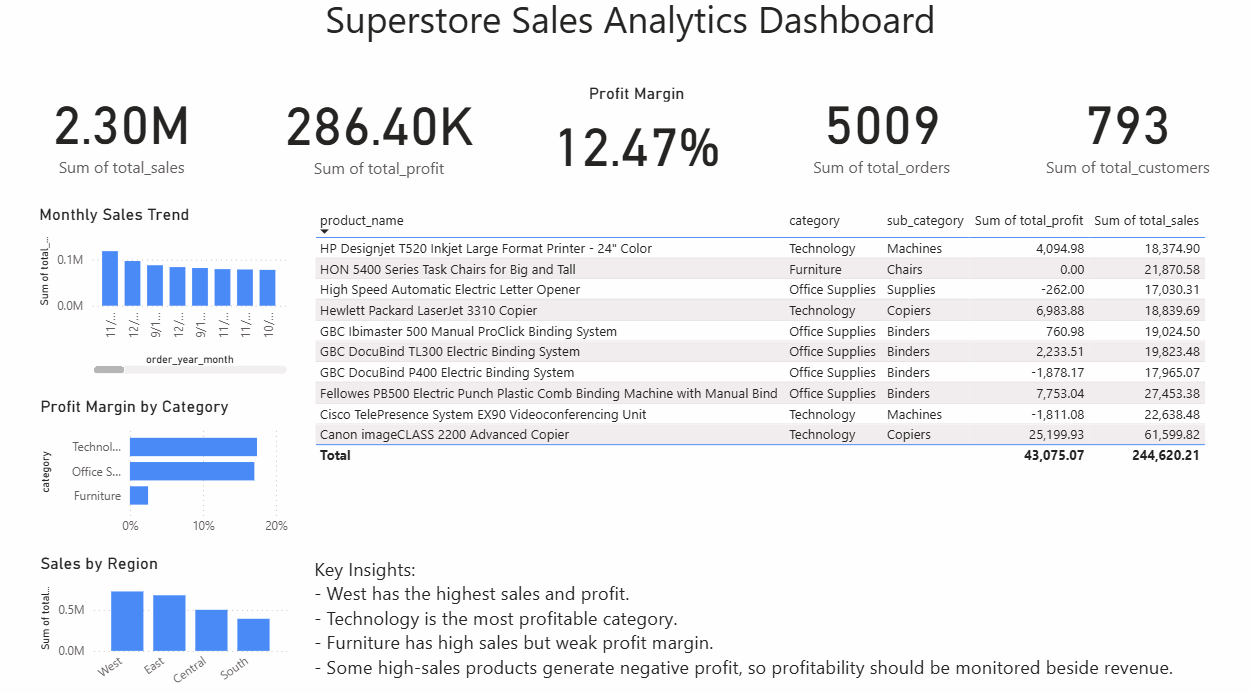

What the dashboard file says about the page in this screenshot:
{"tool":"powerbi","page":{"name":"Page 1","canvas":[1280,720],"ordinal":0},"visuals":[{"type":"textbox","box":[9.6,0,1270.7,68.6],"z":0},{"type":"card","fields":{"Values":["Sum(main_kpis.total_sales)"]},"box":[0,67.2,260.7,149.6],"z":1000},{"type":"card","title":"Profit Margin","fields":{"Values":["Sum(main_kpis.profit_margin)"]},"box":[521.4,94.7,260.7,98.8],"z":2000},{"type":"card","fields":{"Values":["Sum(main_kpis.total_customers)"]},"box":[1019.6,67.2,260.7,149.6],"z":3000},{"type":"card","fields":{"Values":["Sum(main_kpis.total_orders)"]},"box":[769.8,67.2,260.7,149.6],"z":4000},{"type":"card","fields":{"Values":["Sum(main_kpis.total_profit)"]},"box":[260.7,68.6,260.7,149.6],"z":5000},{"type":"clusteredColumnChart","title":"Sales by Region","fields":{"Category":["sales_by_region.region"],"Y":["Sum(sales_by_region.total_sales)"]},"box":[42.5,570.8,260.7,149.6],"z":6000},{"type":"tableEx","fields":{"Values":["top_products_by_sales.product_name","top_products_by_sales.category","top_products_by_sales.sub_category","Sum(top_products_by_sales.total_profit)","Sum(top_products_by_sales.total_sales)"]},"box":[319.7,218.2,941.3,344.4],"z":7000},{"type":"textbox","box":[320,570,941,150],"z":8000},{"type":"clusteredColumnChart","title":"Monthly Sales Trend","fields":{"Category":["monthly_sales_trend.order_year_month"],"Y":["Sum(monthly_sales_trend.total_sales)"]},"box":[41.2,218.2,260.7,177],"z":9000},{"type":"clusteredBarChart","title":"Profit Margin by Category","fields":{"Category":["sales_by_category.category"],"Y":["Avg(sales_by_category.profit_margin)"]},"box":[42.5,413,260.7,149.6],"z":10000}]}

Visuals, with their boxes in screenshot pixels (x1, y1, x2, y2), scaled from the page's 1280x720 canvas onto the 1250x693 screenshot:
textbox: l=9, t=0, r=1249, b=66
card - Sum(main_kpis.total_sales): l=0, t=65, r=255, b=209
"Profit Margin" card: l=509, t=91, r=764, b=186
card - Sum(main_kpis.total_customers): l=996, t=65, r=1249, b=209
card - Sum(main_kpis.total_orders): l=752, t=65, r=1006, b=209
card - Sum(main_kpis.total_profit): l=255, t=66, r=509, b=210
"Sales by Region" clusteredColumnChart: l=42, t=549, r=296, b=692
tableEx - top_products_by_sales.product_name x top_products_by_sales.category: l=312, t=210, r=1231, b=542
textbox: l=312, t=549, r=1231, b=692
"Monthly Sales Trend" clusteredColumnChart: l=40, t=210, r=295, b=380
"Profit Margin by Category" clusteredBarChart: l=42, t=398, r=296, b=542
